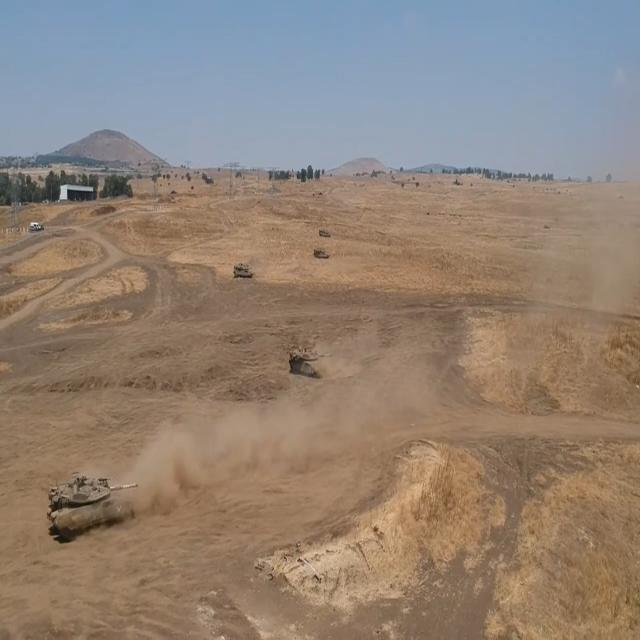tank: (43, 473, 143, 540), (289, 331, 335, 385), (235, 254, 257, 282), (316, 238, 334, 269), (321, 221, 330, 237)
